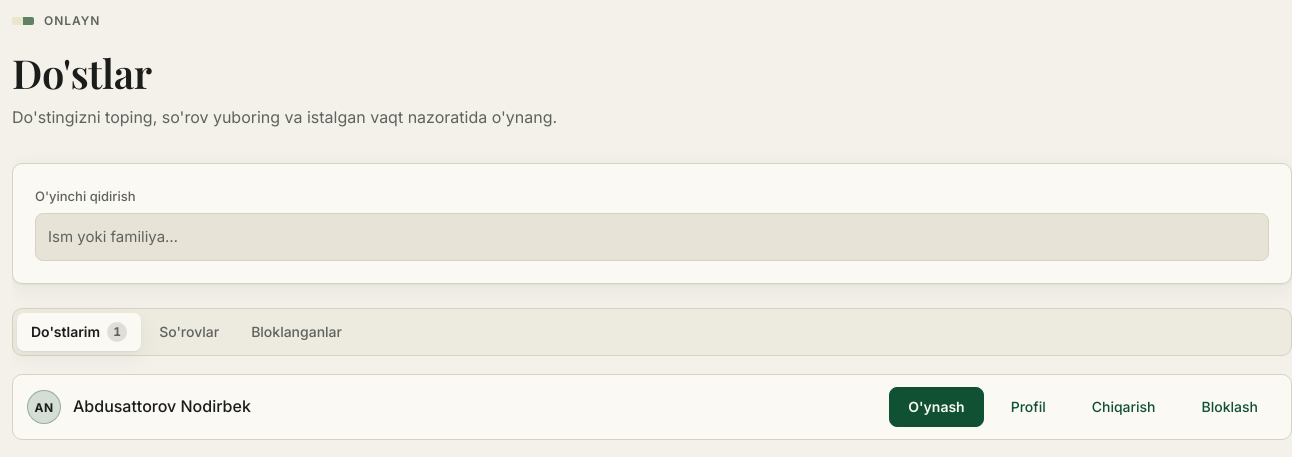
Test case: do`stlar sahifasi › tasdiqni bekor qilish HECH NARSA yubormaydi
The image size is (1292, 457).
Expected: the text "Abdusattorov Nodirbek" is shown, [73,396,251,416]
Click the button "Chiqarish" at x=1124, y=407, box [1073,387,1174,427]
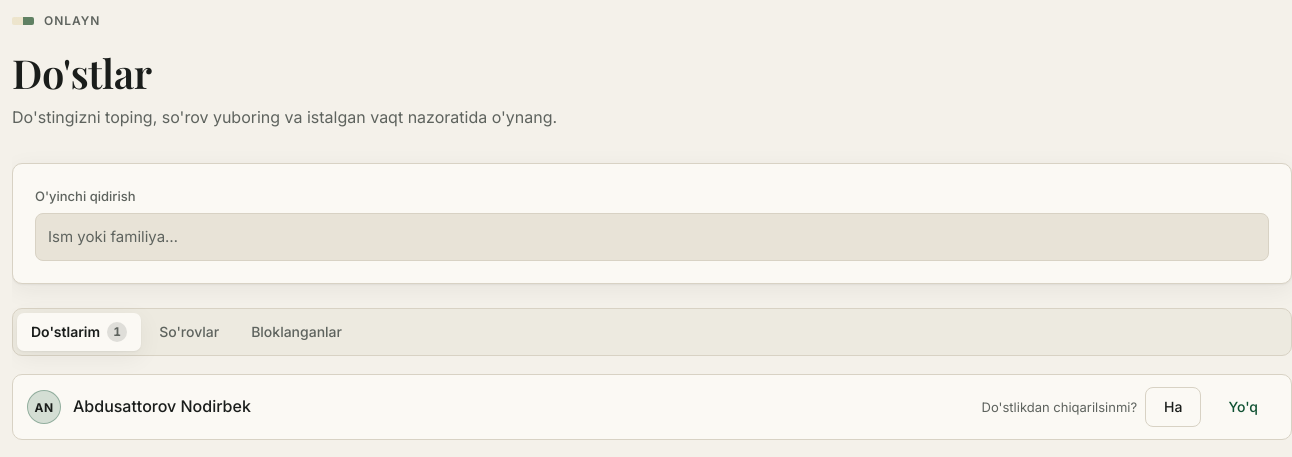
Click the button "Yo'q" at x=1243, y=407, box [1209,387,1277,427]
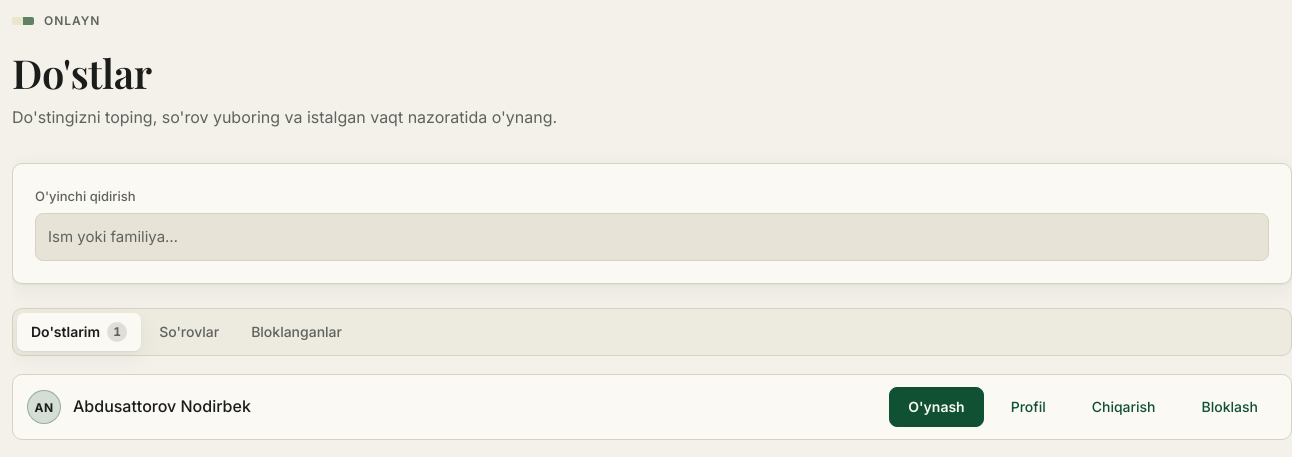
Result: the button "Chiqarish" is shown at [1073,387,1174,427]
